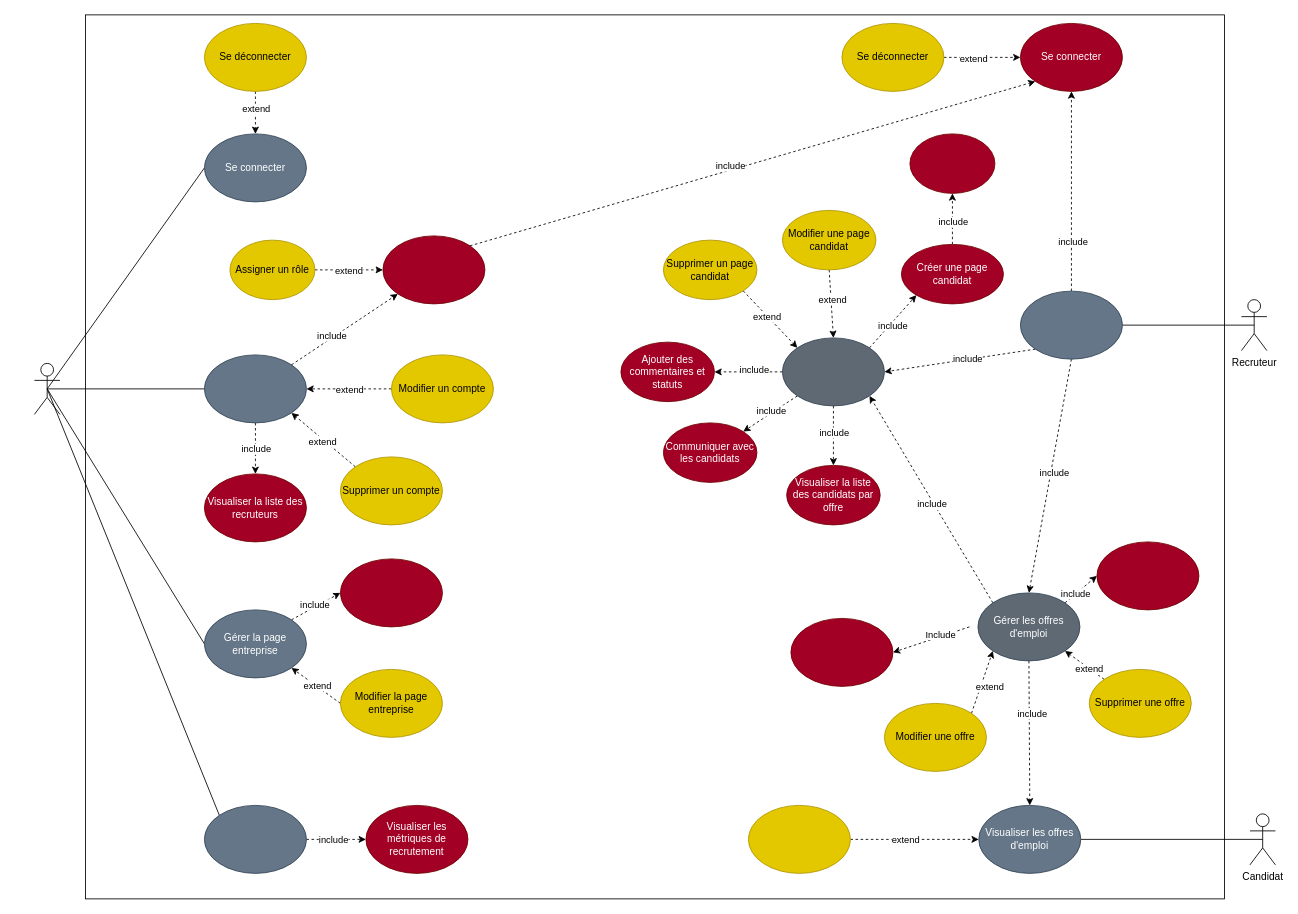
The diagram is 1298 pixels wide and 914 high, and some of its shapes have lost their labels. Here are the shapes that lost their labels. From the top down, the box of each, then its label:
(909, 133, 995, 193): Ajouter un CV
(382, 235, 485, 304): Créer Compte Recruteur
(1020, 290, 1122, 359): Gérer les recrutements
(34, 363, 60, 414): Administrateur
(204, 354, 306, 423): Gérer les comptes
(782, 337, 884, 406): Gérer les candidatures
(340, 558, 442, 627): Créer la page entreprise
(1096, 541, 1199, 610): Visualiser la liste des offres
(790, 618, 893, 686): Créer une offre
(204, 805, 306, 873): Reporting
(748, 805, 850, 873): Postuler à une offre
